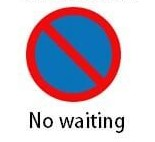Traffic signal: (25, 6, 123, 102)
